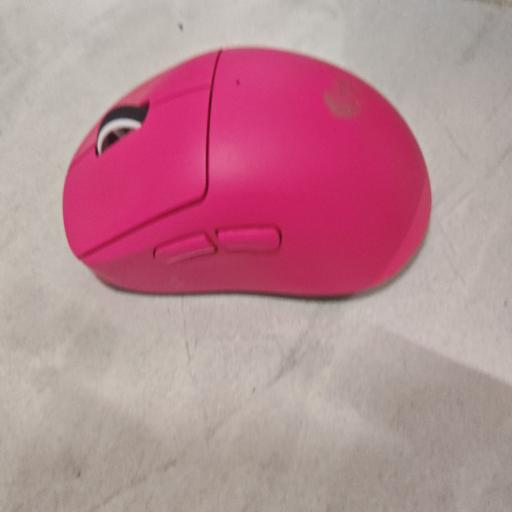mouse: (63, 48, 431, 296)
